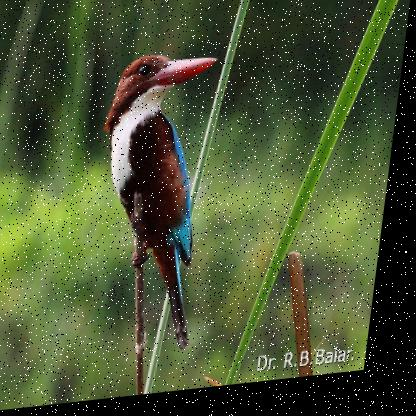Burung: (84, 50, 226, 365)
